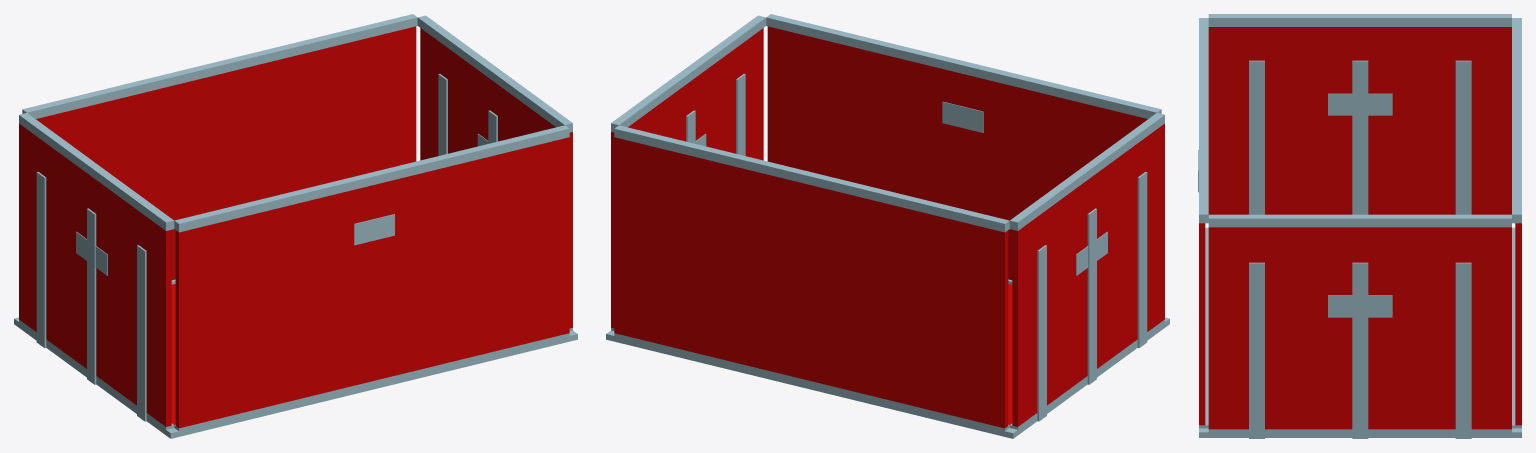
The model's file is container-tote-600x400.glb.
3 views of the same model, side by side, from view 1: azimuth 30°, elevation 25°; view 2: azimuth 150°, elevation 25°; view 3: azimuth 270°, elevation 25° (orthographic). The views are drawn at different scales.
Parts seen in each view (by area): view 1: world; view 2: world; view 3: world.
Part boxes in pixels (box(x1,y1,x2,y2)): world: box(14, 14, 577, 438); world: box(606, 14, 1169, 438); world: box(1198, 14, 1521, 438).
Size of the model in its own units: 605 by 300 by 401.
